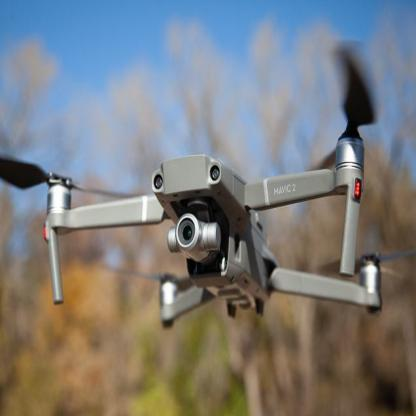drone: (27, 112, 413, 333)
